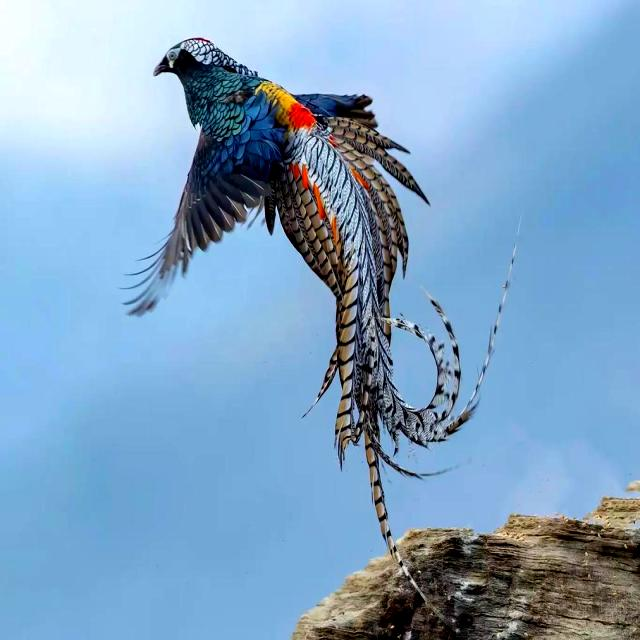Chrysolophus amherstiae: (265, 120, 445, 558)
